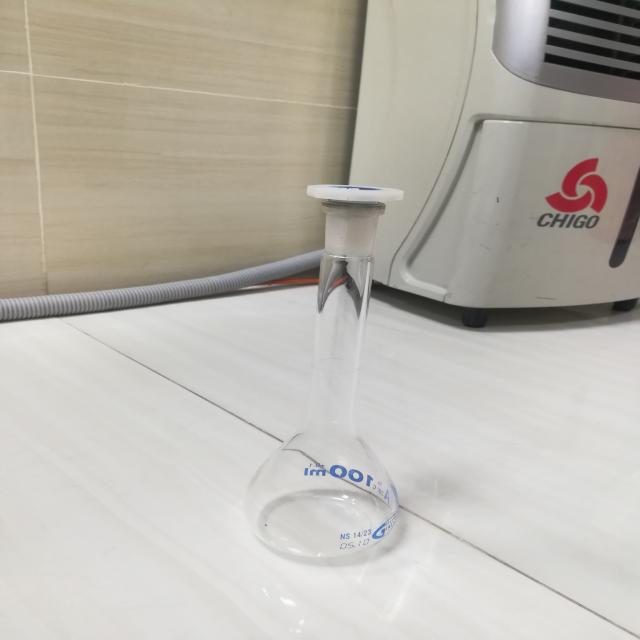Volumetric_Flask: (198, 144, 437, 595)
